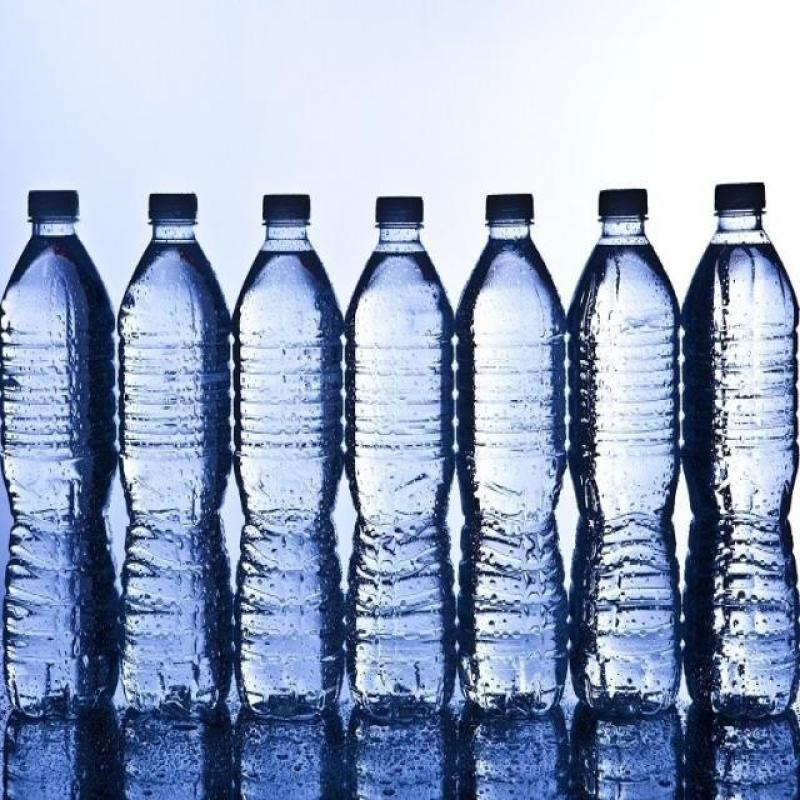botella: (114, 193, 234, 522), (450, 195, 569, 524), (566, 193, 685, 522), (342, 197, 460, 527), (232, 193, 350, 522), (685, 184, 800, 514), (1, 192, 115, 518)
